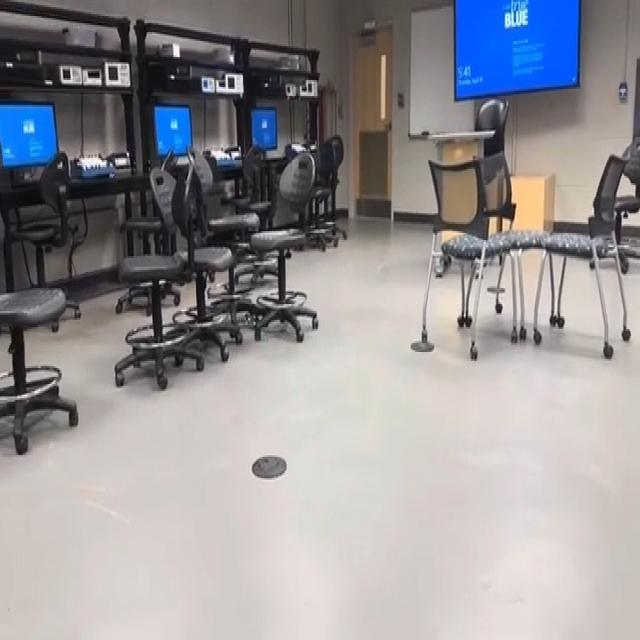drone: (230, 294, 273, 344)
